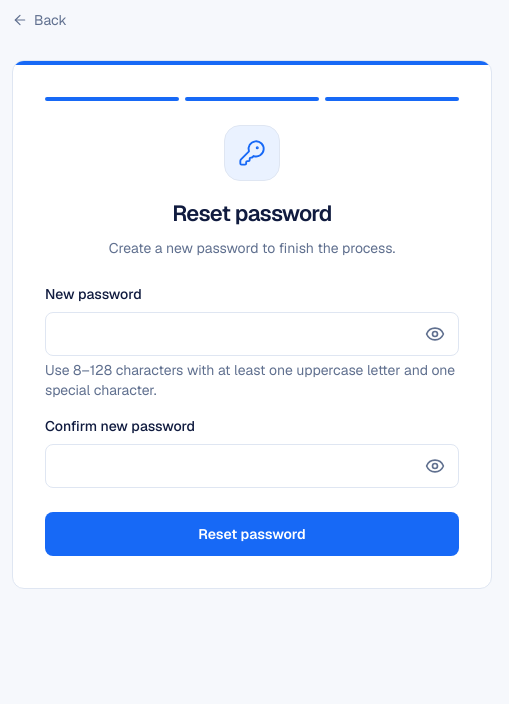
Test: RecoveryCard › shows a recoverable error when the reset URL has no code
This screenshot has width=509, height=704.
Type "NewPassword2@" into the password field labelled "New password". click: (252, 334)
box: [45,312,459,356]
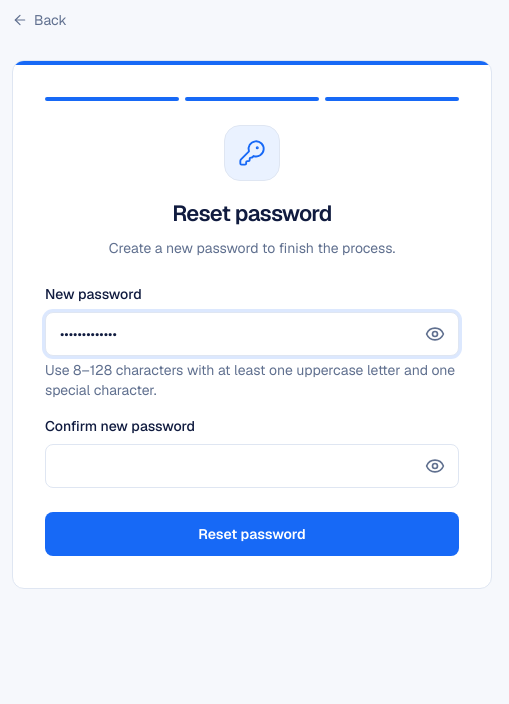
Type "NewPassword2@" into the password field labelled "Confirm new password". click: (252, 466)
box: [45,444,459,488]
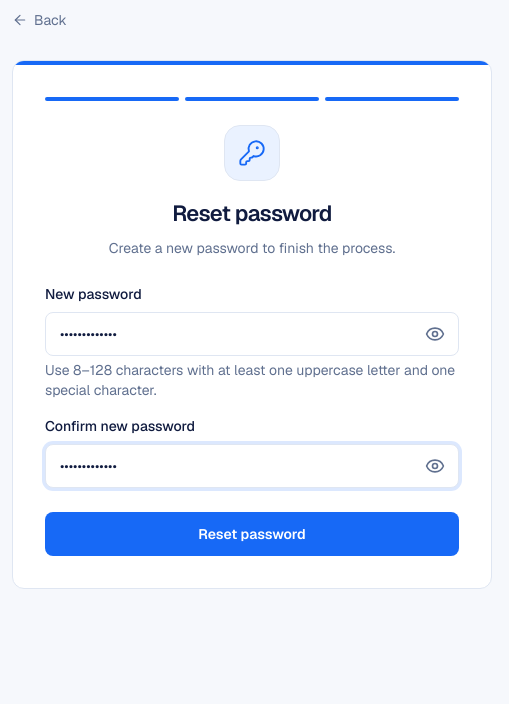
Click the button "Reset password". click: (252, 534)
box: [45,512,459,556]
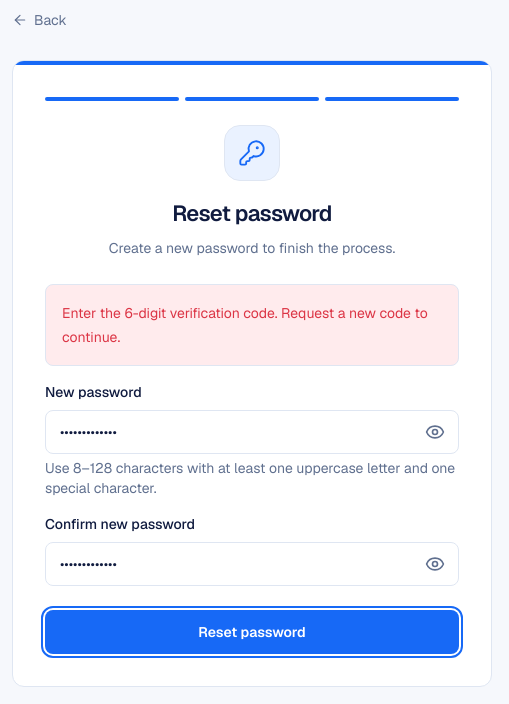
expect the text "Enter the 6-digit verification code. Request a new code to continue." is shown: met, box [45,284,459,366]
